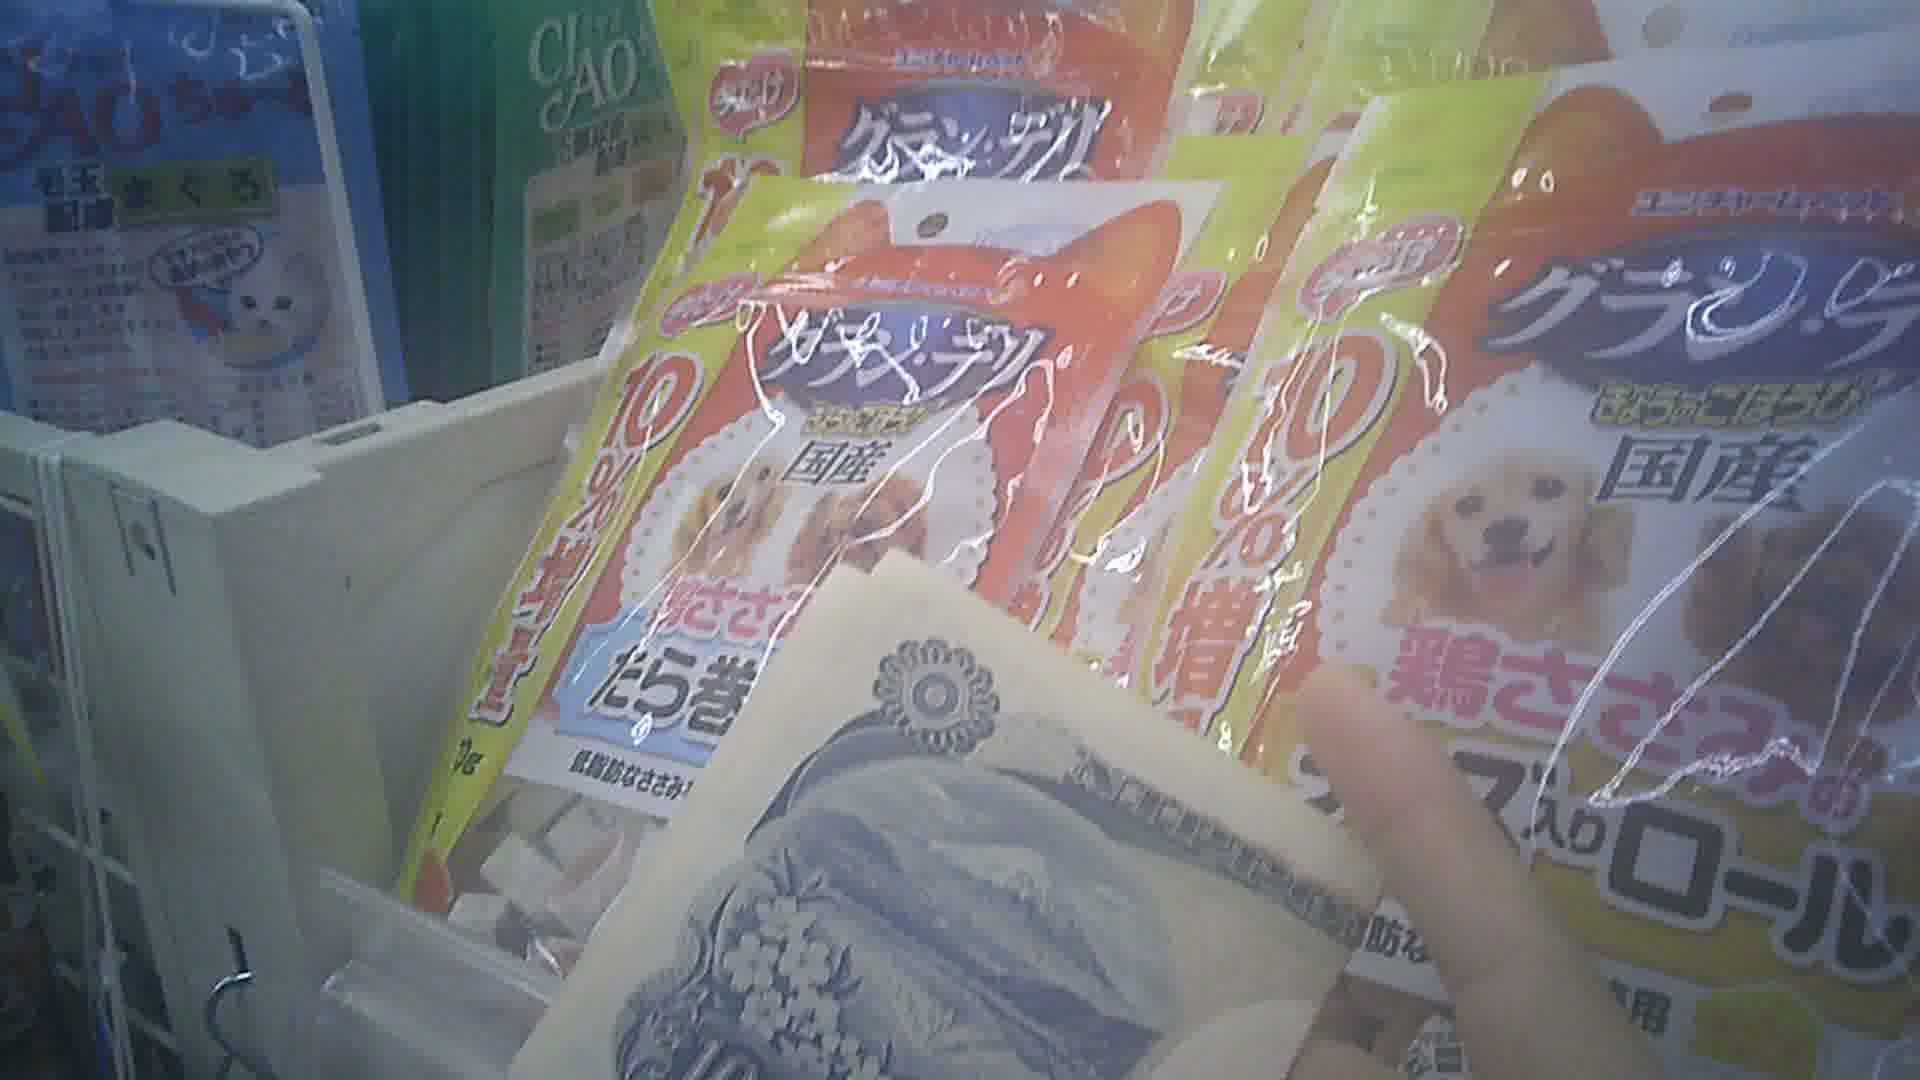1,000 Yen: (579, 564, 1381, 1079)
